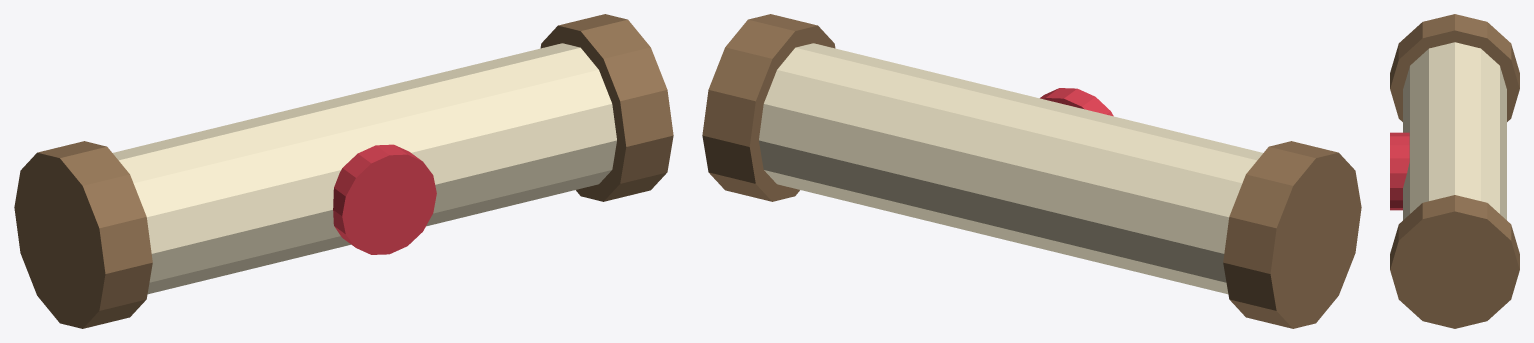
File: Pista.fbx
3 renders of one model, left to right at view 1: azimuth 30°, elevation 25°; view 2: azimuth 150°, elevation 25°; view 3: azimuth 270°, elevation 25°, orthographic. The views are drawn at different scales.
Parts seen in each view (by area): view 1: Pista; view 2: Pista; view 3: Pista.
Boxes of the visible parts, x1,y1,x2,y2 form: Pista: (14,14,673,328); Pista: (702,14,1361,328); Pista: (1390,14,1519,328).
Bounding box in the file's own units: 0.72 × 0.2 × 0.2.
